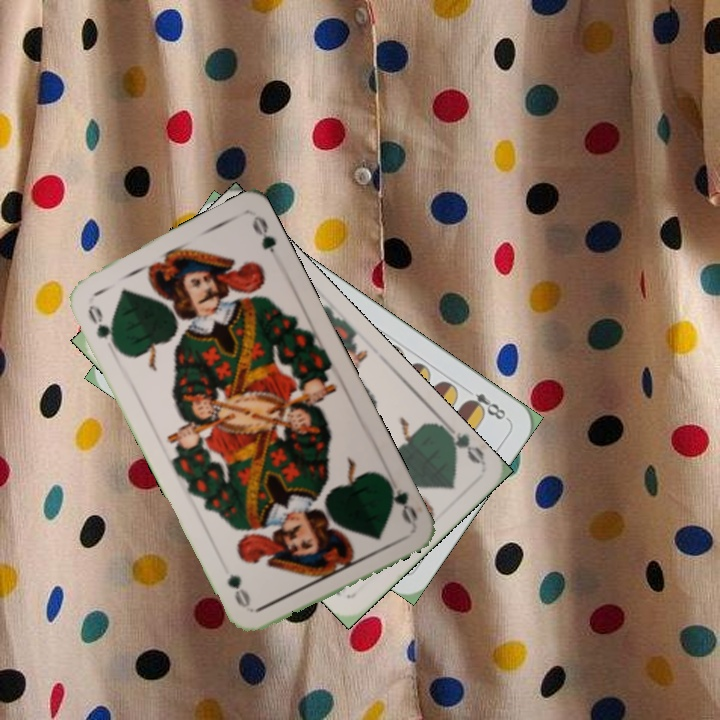E8: (461, 383, 511, 423)
GO: (438, 418, 487, 467), (380, 473, 421, 527), (83, 300, 121, 352)
